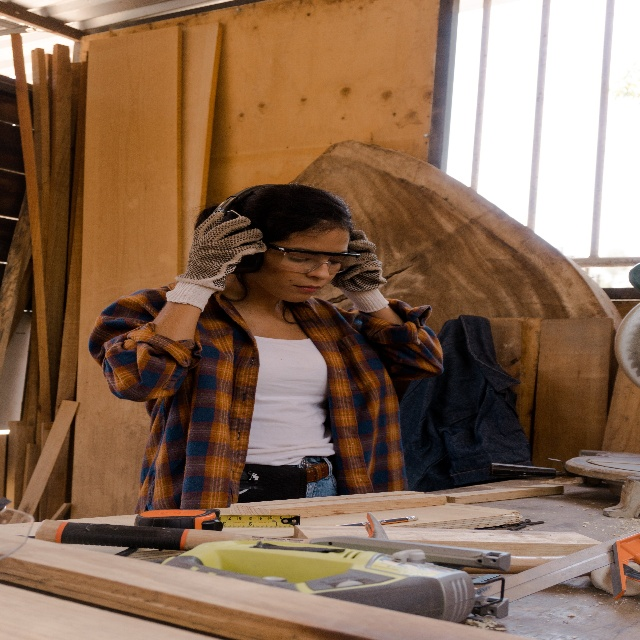Gafas: (227, 207, 360, 274)
Guantes: (165, 209, 267, 311), (331, 221, 391, 313)
